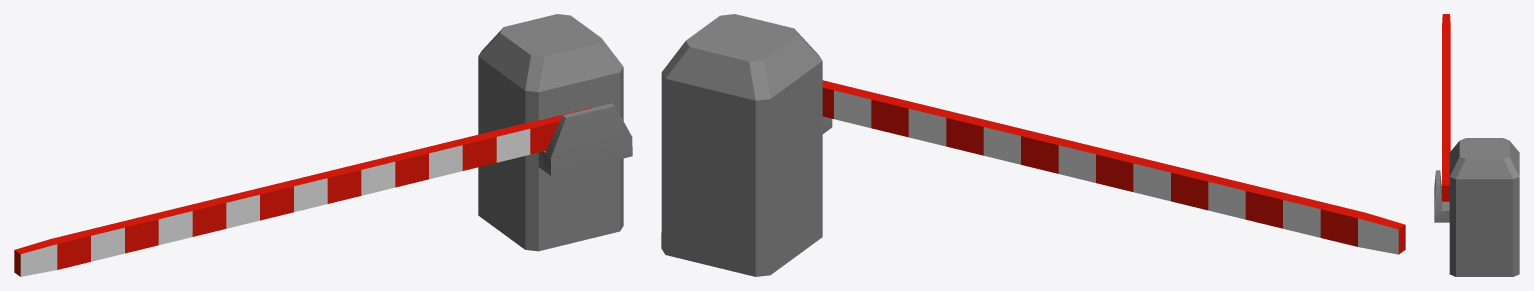
The model's file is shlanbaum.fbx.
3 renders of one model, left to right at view 1: azimuth 30°, elevation 25°; view 2: azimuth 150°, elevation 25°; view 3: azimuth 270°, elevation 25°, orthographic. The views are drawn at different scales.
Parts seen in each view (by area): view 1: body, palka; view 2: body, palka; view 3: body, palka.
Part boxes in pixels (box(x1,y1,x2,y2)): body: box(478, 14, 632, 251); palka: box(14, 107, 591, 276); body: box(661, 14, 832, 276); palka: box(822, 80, 1405, 254); body: box(1434, 138, 1519, 276); palka: box(1442, 14, 1450, 201).
Size of the model in its own units: 526 by 152 by 103.
